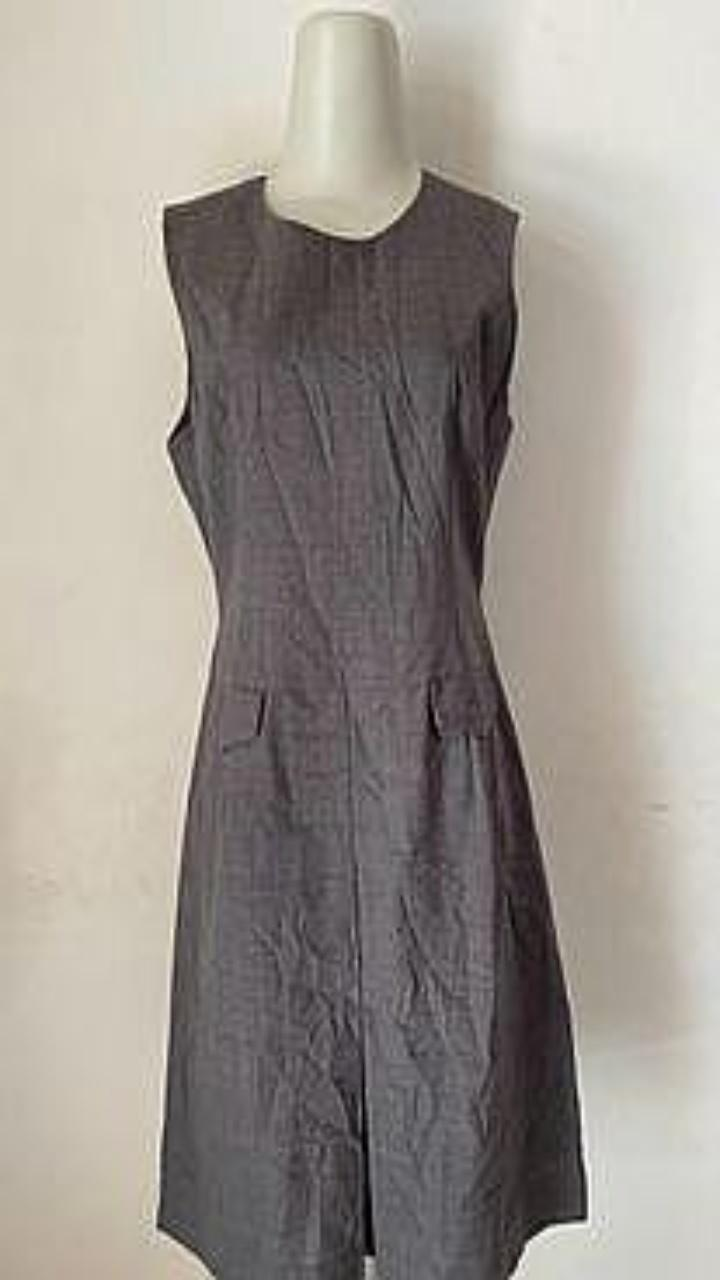Dresses: (156, 169, 587, 1279)
